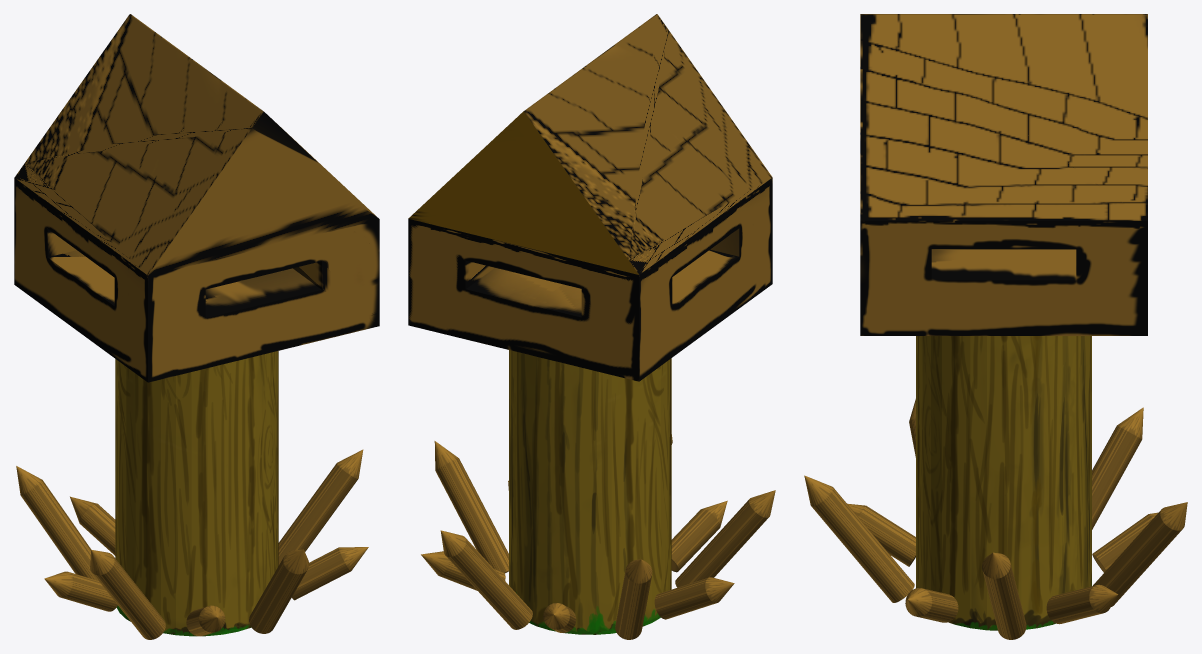
File: Wooden_Tower.fbx
3 views of the same model, side by side, from view 1: azimuth 30°, elevation 25°; view 2: azimuth 150°, elevation 25°; view 3: azimuth 270°, elevation 25° (orthographic). The views are drawn at different scales.
Parts seen in each view (by area): view 1: Cube, Cylinder, Cone, Cone.001; view 2: Cube, Cylinder, Cone, Cone.001; view 3: Cube, Cylinder, Cone, Cone.001.
Part boxes in pixels (x1=…): Cube: x1=14, y1=14, x2=379, y2=382; Cylinder: x1=115, y1=351, x2=278, y2=636; Cone: x1=16, y1=449, x2=363, y2=639; Cone.001: x1=44, y1=496, x2=368, y2=636; Cube: x1=408, y1=14, x2=772, y2=381; Cylinder: x1=509, y1=350, x2=671, y2=634; Cone: x1=434, y1=434, x2=775, y2=639; Cone.001: x1=421, y1=480, x2=734, y2=632; Cube: x1=860, y1=14, x2=1147, y2=335; Cylinder: x1=916, y1=336, x2=1091, y2=630; Cone: x1=804, y1=399, x2=1187, y2=639; Cone.001: x1=847, y1=503, x2=1157, y2=624.
Bounding box in the file's own units: 438 × 727 × 436.
Materials: 4 (4 with a texture image).
